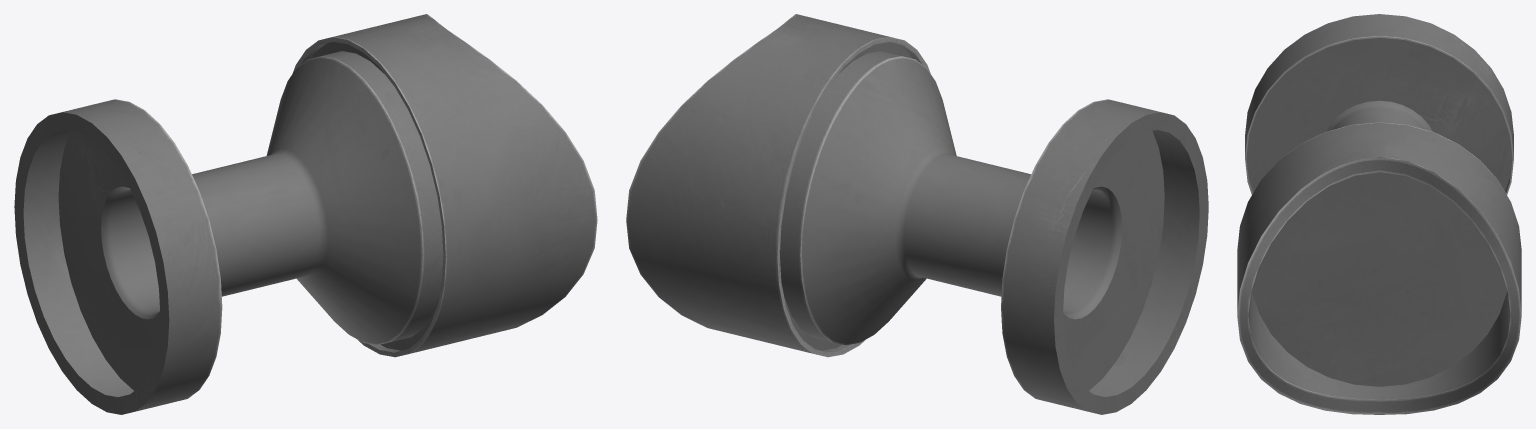
Rendered from guard_13_c_a.glb.
3 renders of one model, left to right at view 1: azimuth 30°, elevation 25°; view 2: azimuth 150°, elevation 25°; view 3: azimuth 270°, elevation 25°, orthographic. The views are drawn at different scales.
Parts seen in each view (by area): view 1: guard_13_c_a_lod0; view 2: guard_13_c_a_lod0; view 3: guard_13_c_a_lod0.
Boxes of the visible parts, x1,y1,x2,y2 form: guard_13_c_a_lod0: (14,14,597,414); guard_13_c_a_lod0: (626,14,1208,414); guard_13_c_a_lod0: (1237,14,1521,414).
Size of what is drawn, in the model's own units: 0.0454 by 0.0304 by 0.0304.
Materials: 1 (1 with a texture image).
